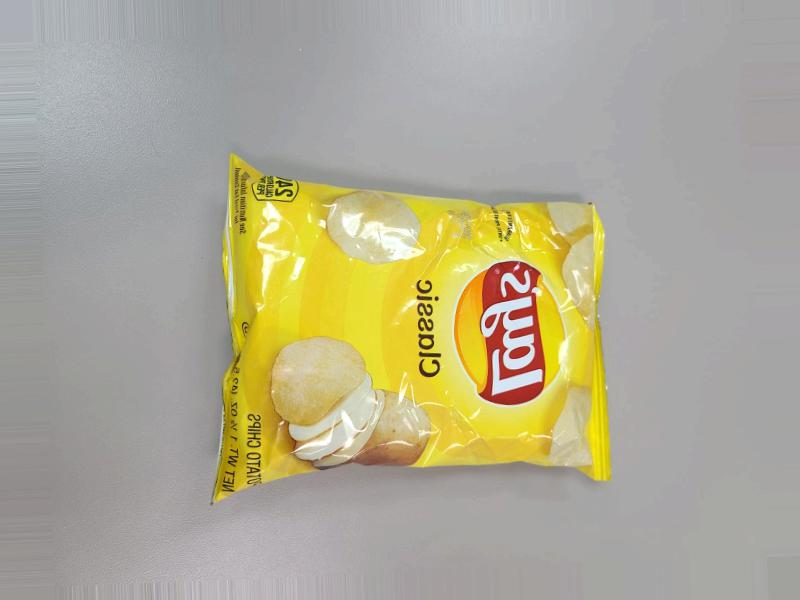lays: (224, 173, 595, 507)
